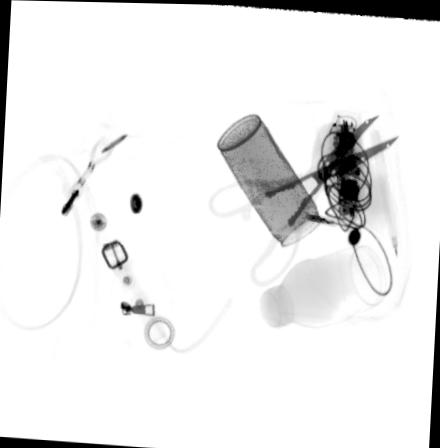Scissors: (208, 113, 400, 287)
